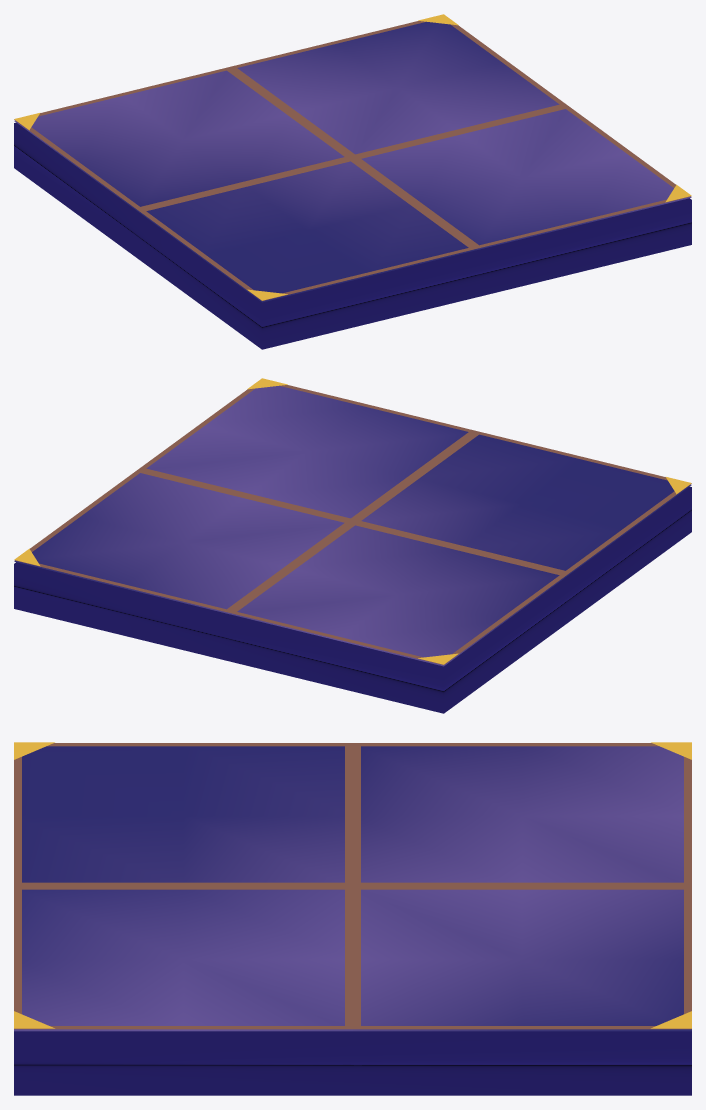
Rendered from tile_boulevard.glb.
3 renders of one model, top to bottom at view 1: azimuth 30°, elevation 25°; view 2: azimuth 150°, elevation 25°; view 3: azimuth 270°, elevation 25°, orthographic. The views are drawn at different scales.
Visible parts, largest first — view 1: Tile.001; view 2: Tile.001; view 3: Tile.001.
Boxes of the visible parts, bbox=[...] form: Tile.001: bbox=[14, 14, 691, 349]; Tile.001: bbox=[14, 378, 691, 713]; Tile.001: bbox=[14, 742, 691, 1095].
Size of the model in its own units: 1 by 0.109 by 1.
